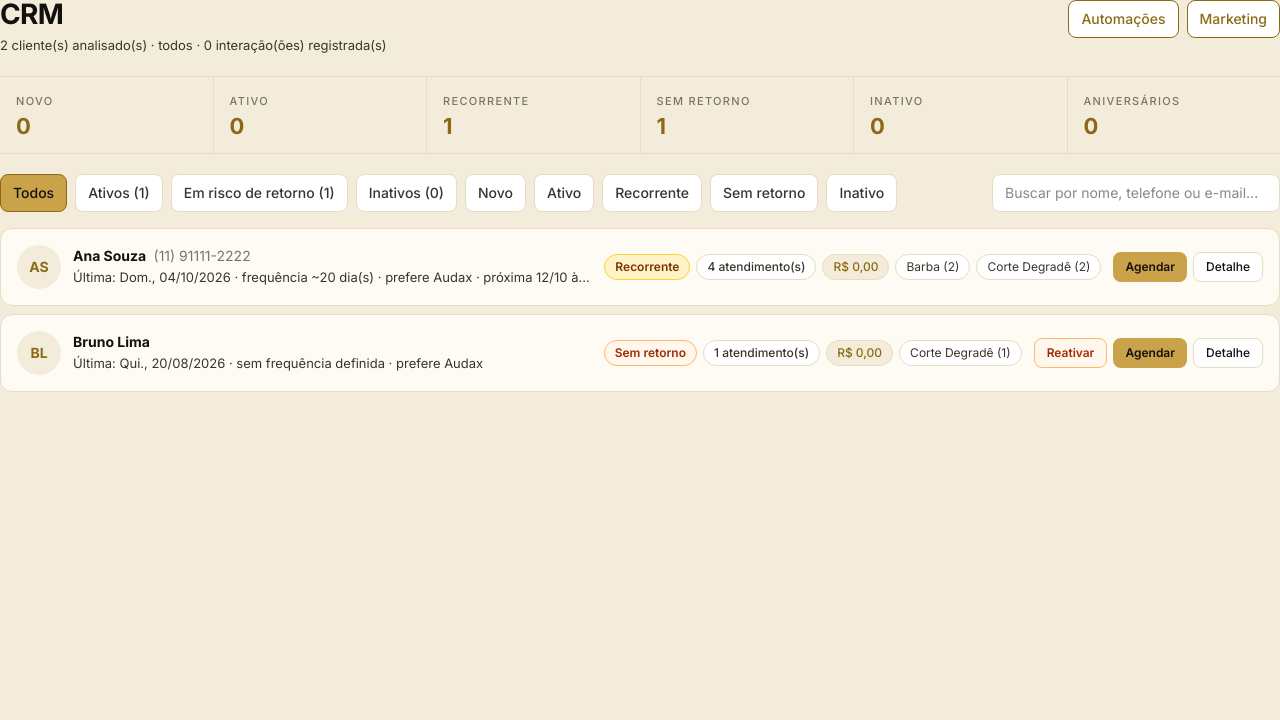
it: CRM — detalhe, interações e ações rápidas › duplo clique em "Salvar interação" não duplica a nota
Click the button "Detalhe" in the row of "AS": (1228,267) [1193,252,1263,282]
(page scrolled)
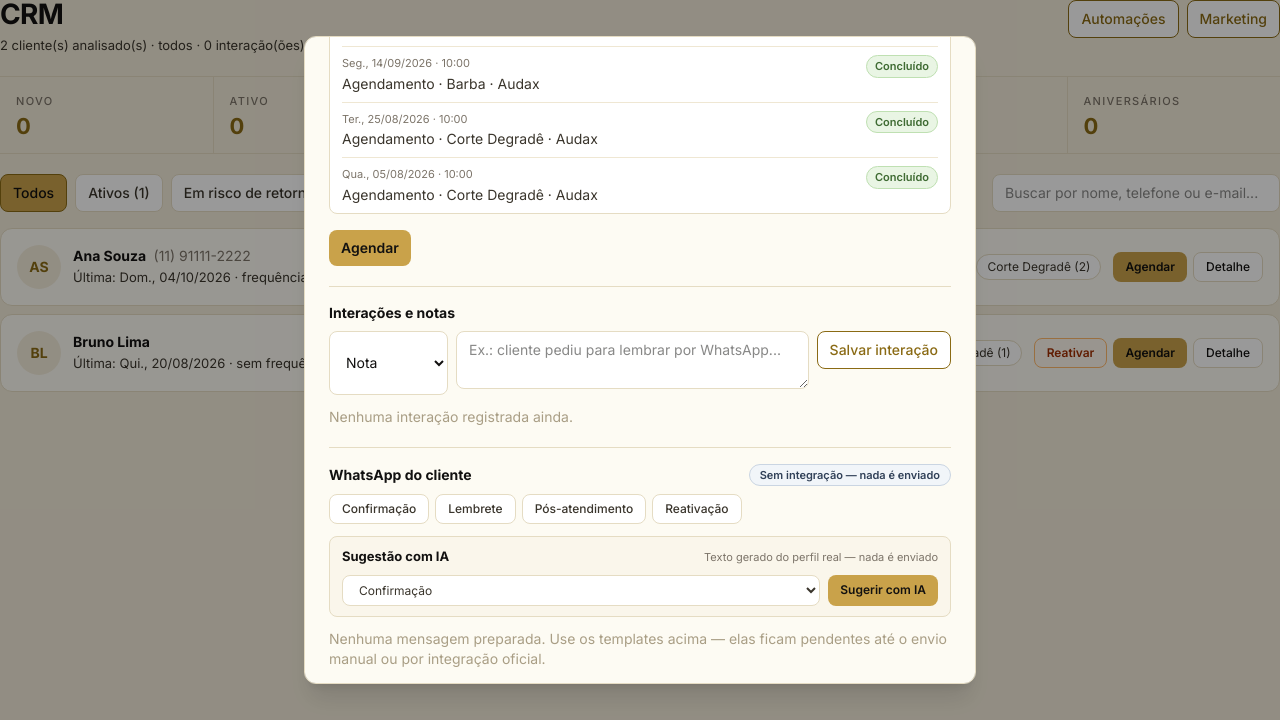
In the text box named "Nova interação": (632,360) [456,330,809,388], type "Cliente prefere atendimento pela manhã."
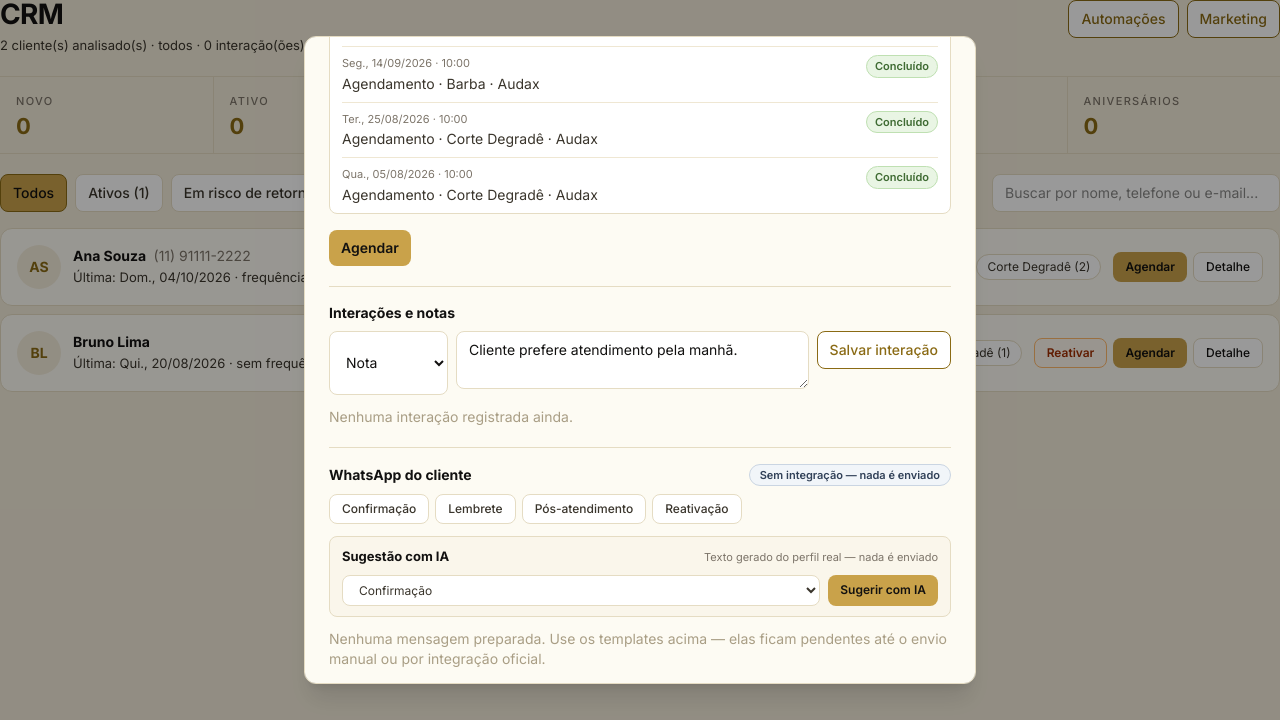
Click the button "Salvar interação": (884,350) [817,330,951,368]
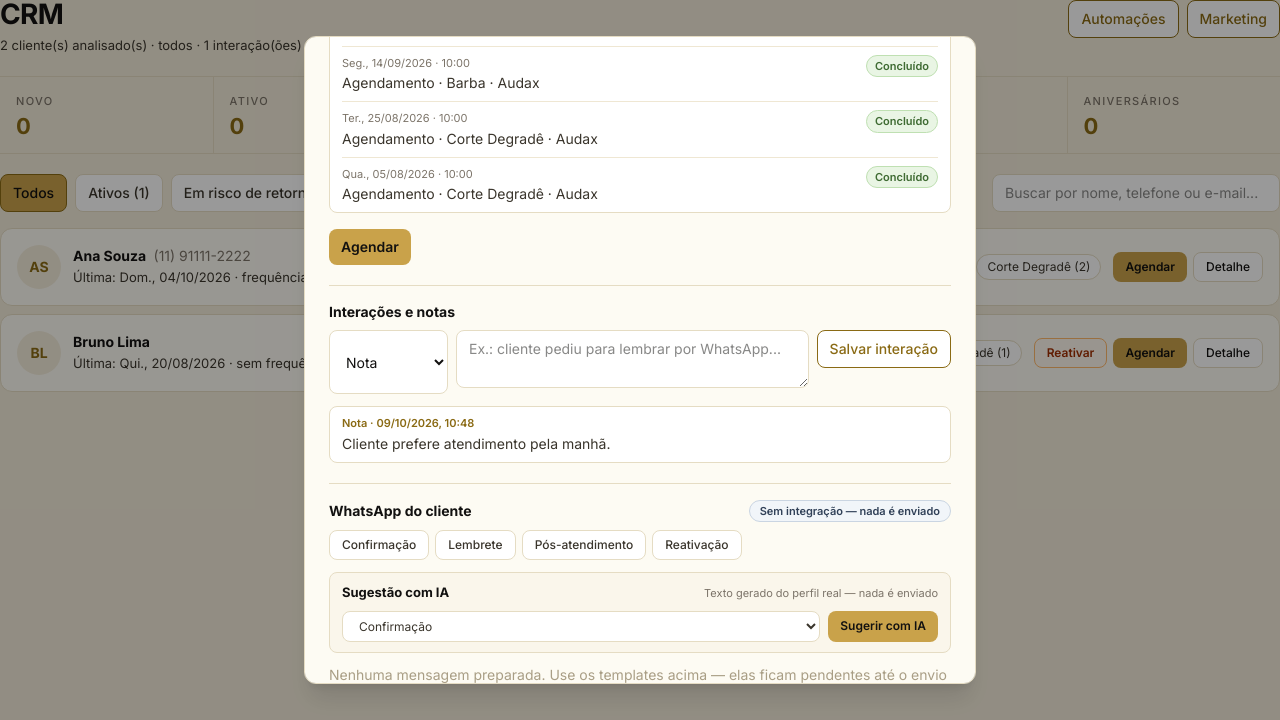
Click the button "Salvar interação": (884,349) [817,330,951,368]
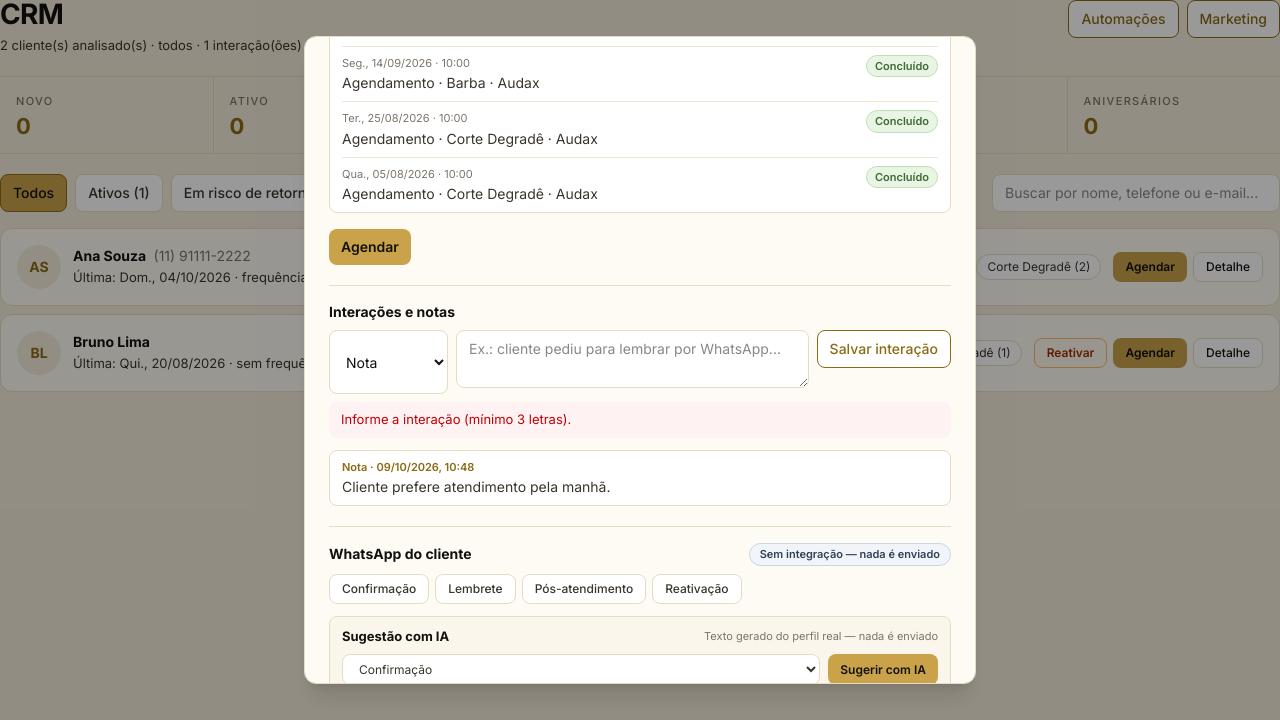
Now the text "Informe a interação (mínimo 3 letras)." is shown, box [329,402,951,438]
